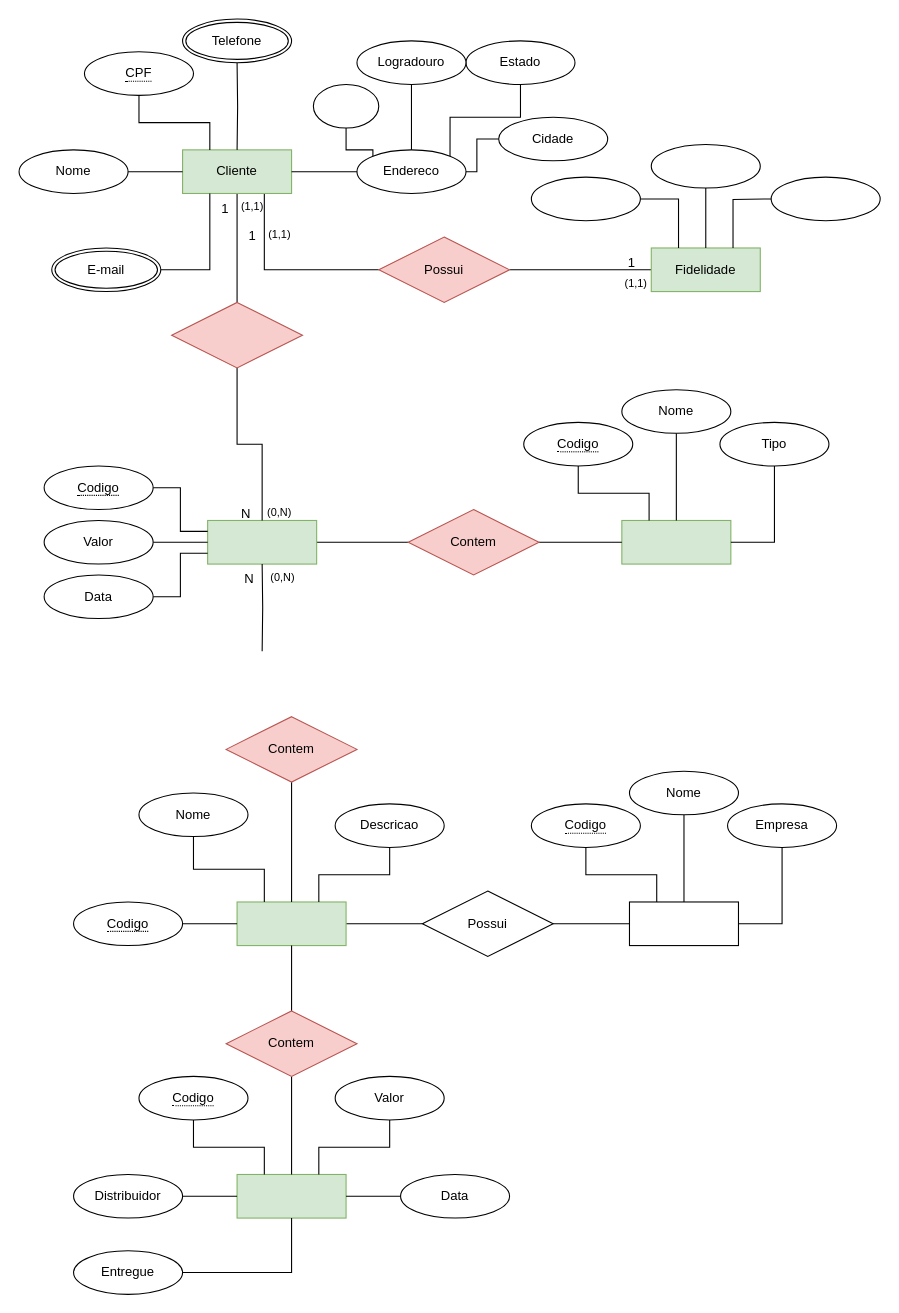
Image size: 899x1313. Some labels were removed from this diagram. The centre of each missing label's shape, as x and y in pixels:
"CEP" goes at pixel 345 105.
"Compra" goes at pixel 291 1195.
"CPF Membro" goes at pixel 585 198.
"Data_Adesao" goes at pixel 705 165.
"Forma de pagamento" goes at pixel 676 541.
"Marca" goes at pixel 683 923.
"Pontos" goes at pixel 825 198.
"Produto" goes at pixel 291 923.
"Realiza" goes at pixel 236 334.
"Venda" goes at pixel 262 541.
